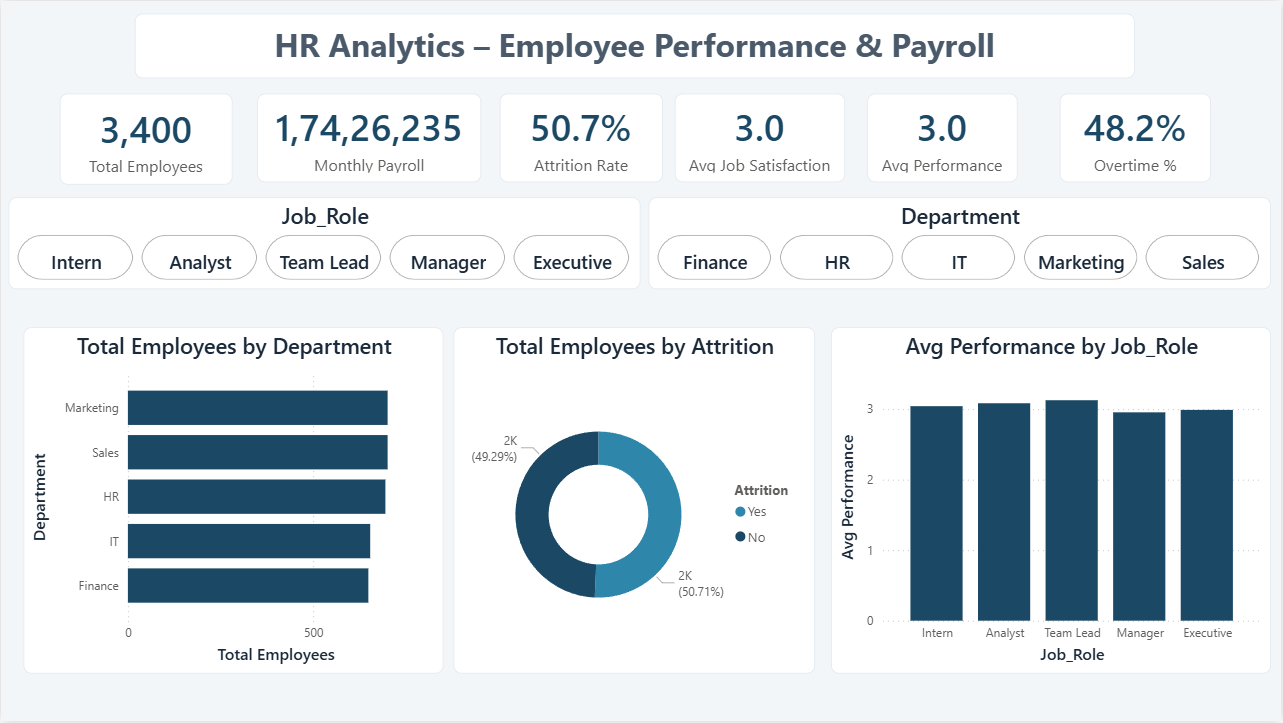

The page's visual inventory and layout, read from the dashboard file:
{"tool":"powerbi","page":{"name":"Executive Overview","canvas":[1280,720],"ordinal":0},"visuals":[{"type":"textbox","box":[133.8,12.5,1000,65],"z":0},{"type":"card","fields":{"Values":["Fact_Employee.Total Employees"]},"box":[58.6,92.9,172.9,91.4],"z":1000},{"type":"clusteredBarChart","fields":{"Category":["Dim_Department.Department"],"Y":["Fact_Employee.Total Employees"]},"box":[22.5,326.2,420,346.2],"z":2000},{"type":"advancedSlicerVisual","fields":{"Values":["Dim_Department.Department"]},"box":[647.8,196.7,622.2,92.2],"z":3000},{"type":"card","fields":{"Values":["Fact_Employee.Attrition Rate"]},"box":[498.6,92.9,162.9,88.6],"z":4000},{"type":"card","fields":{"Values":["Fact_Employee.Monthly Payroll"]},"box":[255.7,92.9,224.3,88.6],"z":5000},{"type":"card","fields":{"Values":["Fact_Employee.Avg Performance"]},"box":[865.7,92.9,150,88.6],"z":6000},{"type":"card","fields":{"Values":["Fact_Employee.Avg Job Satisfaction"]},"box":[674.3,92.9,170,88.6],"z":7000},{"type":"card","fields":{"Values":["Fact_Employee.Overtime %"]},"box":[1058.6,92.9,151.4,88.6],"z":8000},{"type":"donutChart","fields":{"Category":["Fact_Employee.Attrition"],"Y":["Fact_Employee.Total Employees"]},"box":[452.5,326.2,361.2,346.2],"z":9000},{"type":"clusteredColumnChart","fields":{"Category":["Dim_JobRole.Job_Role"],"Y":["Fact_Employee.Avg Performance"]},"box":[830,326.2,440,346.2],"z":10000},{"type":"advancedSlicerVisual","fields":{"Values":["Dim_JobRole.Job_Role"]},"box":[7.8,196.7,632.2,92.2],"z":11000}]}

Visuals, with their boxes in screenshot pixels (x1, y1, x2, y2), scaled from the page's 1280x720 canvas onto the 1283x723 screenshot:
textbox: left=134, top=13, right=1136, bottom=78
card - Fact_Employee.Total Employees: left=59, top=93, right=232, bottom=185
clusteredBarChart - Dim_Department.Department x Fact_Employee.Total Employees: left=23, top=328, right=444, bottom=675
advancedSlicerVisual - Dim_Department.Department: left=649, top=198, right=1273, bottom=290
card - Fact_Employee.Attrition Rate: left=500, top=93, right=663, bottom=182
card - Fact_Employee.Monthly Payroll: left=256, top=93, right=481, bottom=182
card - Fact_Employee.Avg Performance: left=868, top=93, right=1018, bottom=182
card - Fact_Employee.Avg Job Satisfaction: left=676, top=93, right=846, bottom=182
card - Fact_Employee.Overtime %: left=1061, top=93, right=1213, bottom=182
donutChart - Fact_Employee.Attrition x Fact_Employee.Total Employees: left=454, top=328, right=816, bottom=675
clusteredColumnChart - Dim_JobRole.Job_Role x Fact_Employee.Avg Performance: left=832, top=328, right=1273, bottom=675
advancedSlicerVisual - Dim_JobRole.Job_Role: left=8, top=198, right=642, bottom=290
